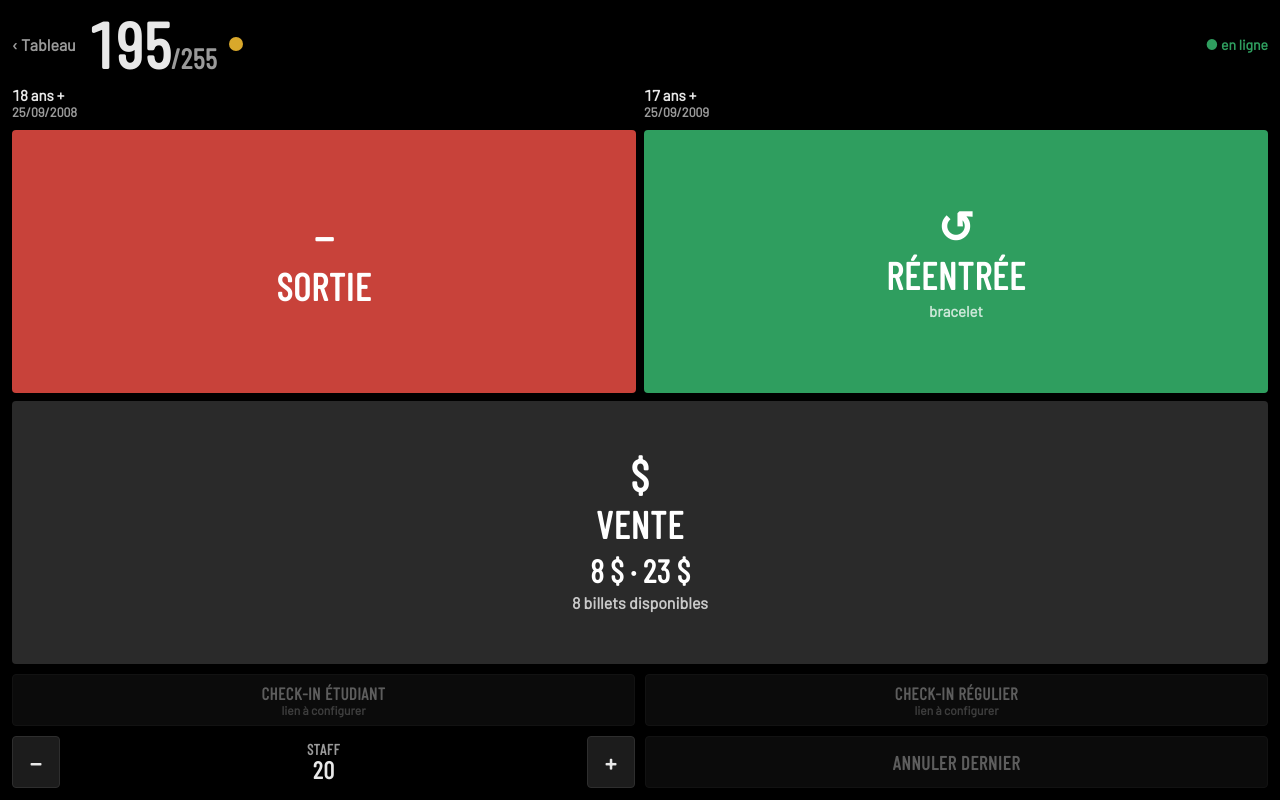
Test case: Écran Porte (scénario 23:00, 195 personnes, prix automatiques 8 $ / 23 $) › staff : + puis − ramène le compteur et l’occupation
Click the button named "Ajouter un staff": x=611, y=762 x1=587 y1=736 x2=635 y2=788
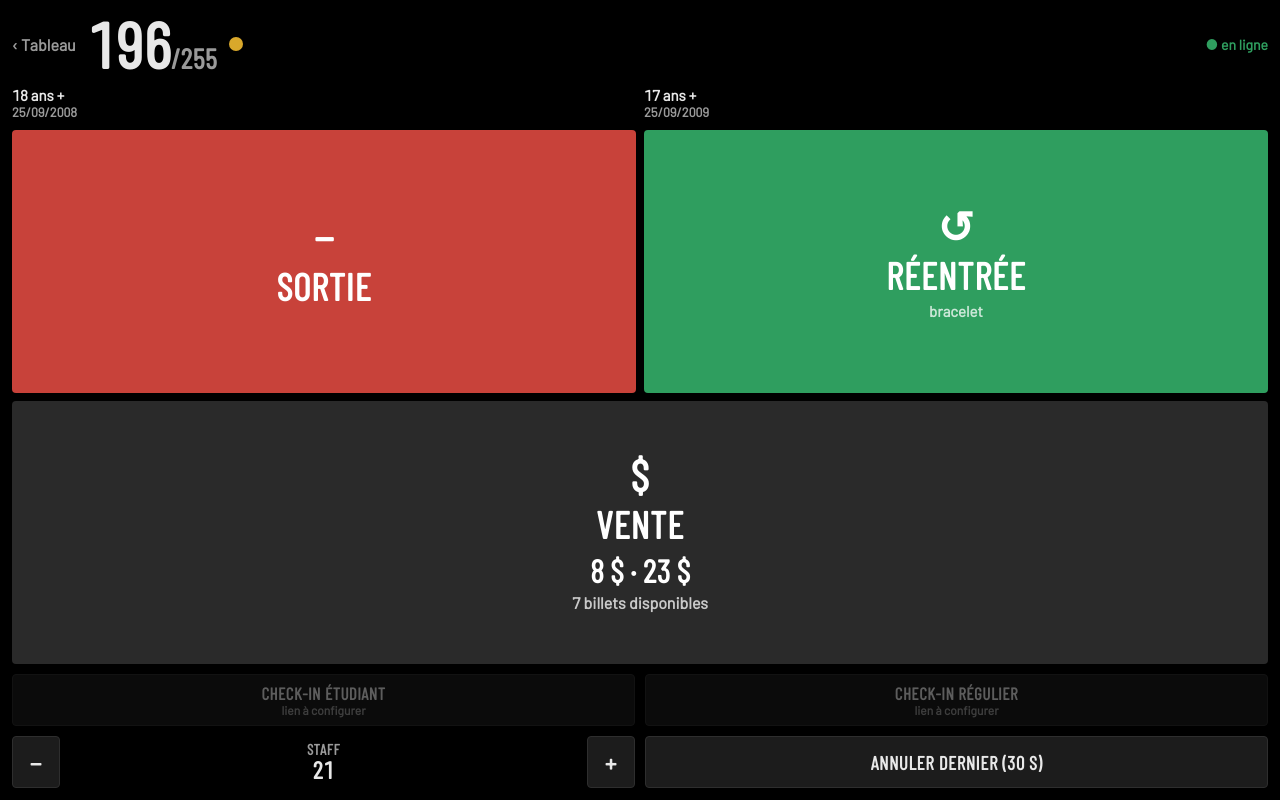
Expected: the text "196" is shown, x1=88 y1=12 x2=171 y2=76
Expected: the text "21" is shown, x1=312 y1=757 x2=334 y2=783
Click the button named "Retirer un staff": x=36, y=762 x1=12 y1=736 x2=60 y2=788
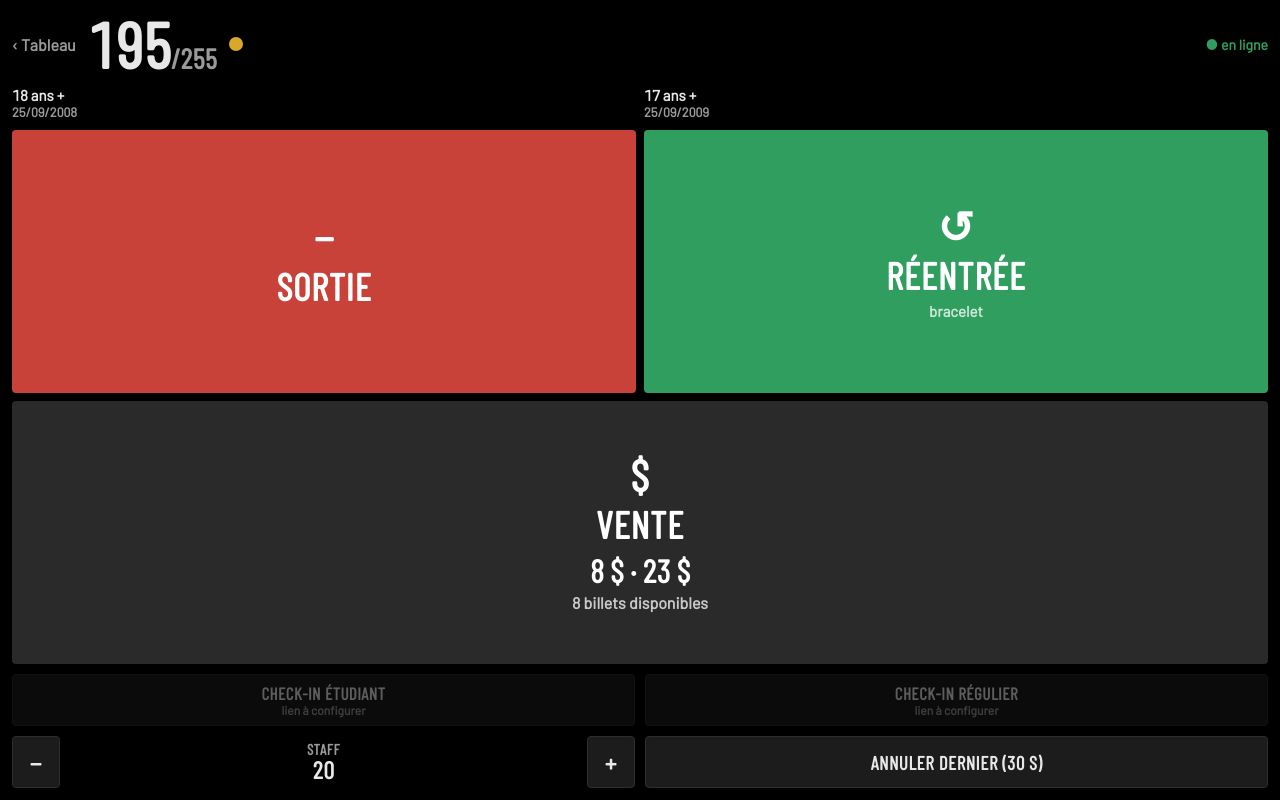
Expected: the text "195" is shown, x1=88 y1=12 x2=171 y2=76
Expected: the text "20" is shown, x1=312 y1=757 x2=334 y2=783
